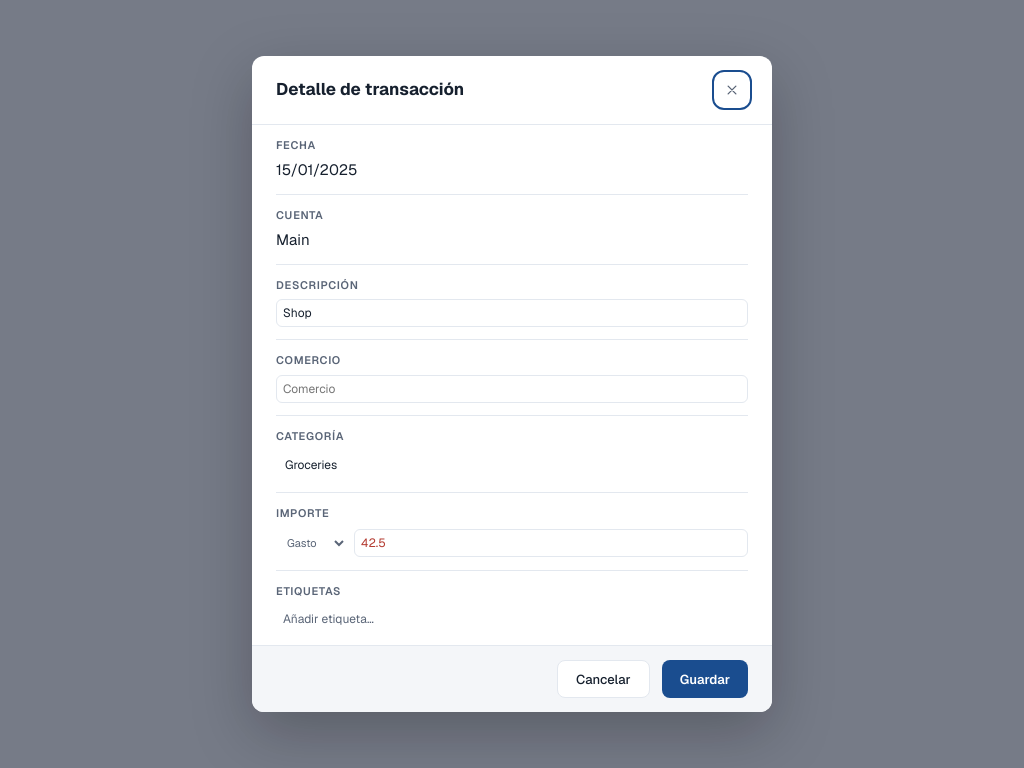
Test case: refuses malformed text
Step 1. Replace the text in the field labelled "Importe" with "12abc" → {"x": 551, "y": 543}, box [354,529,748,557]
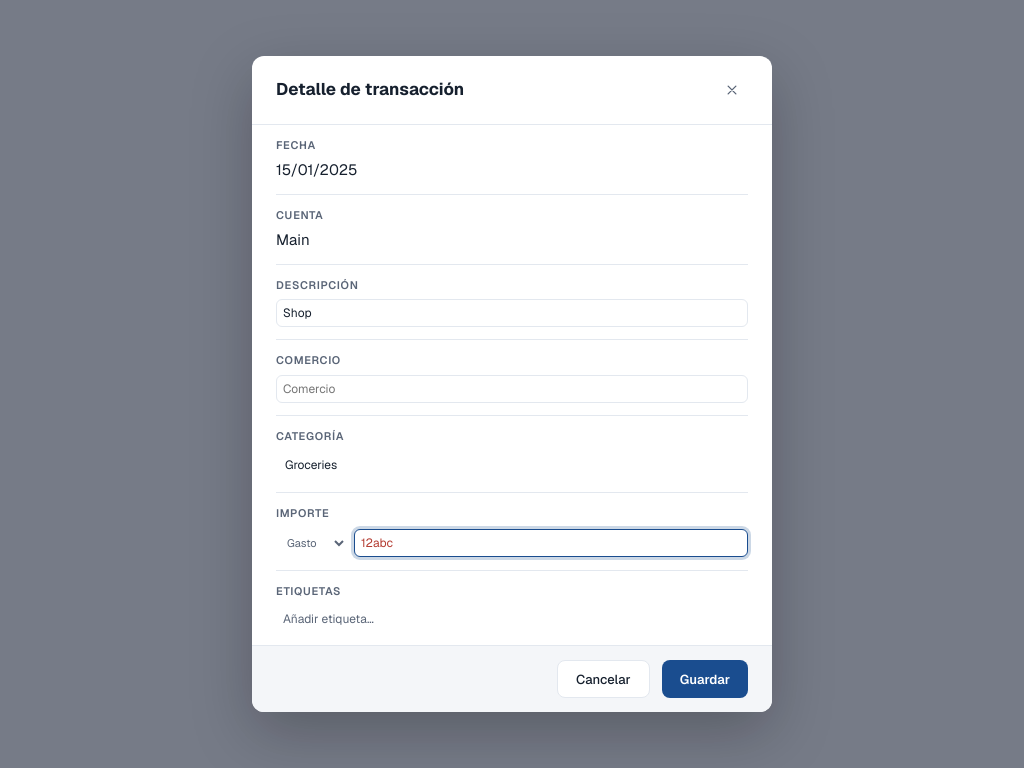
Step 2. Click the button "Guardar" → {"x": 705, "y": 679}, box [662,660,748,698]
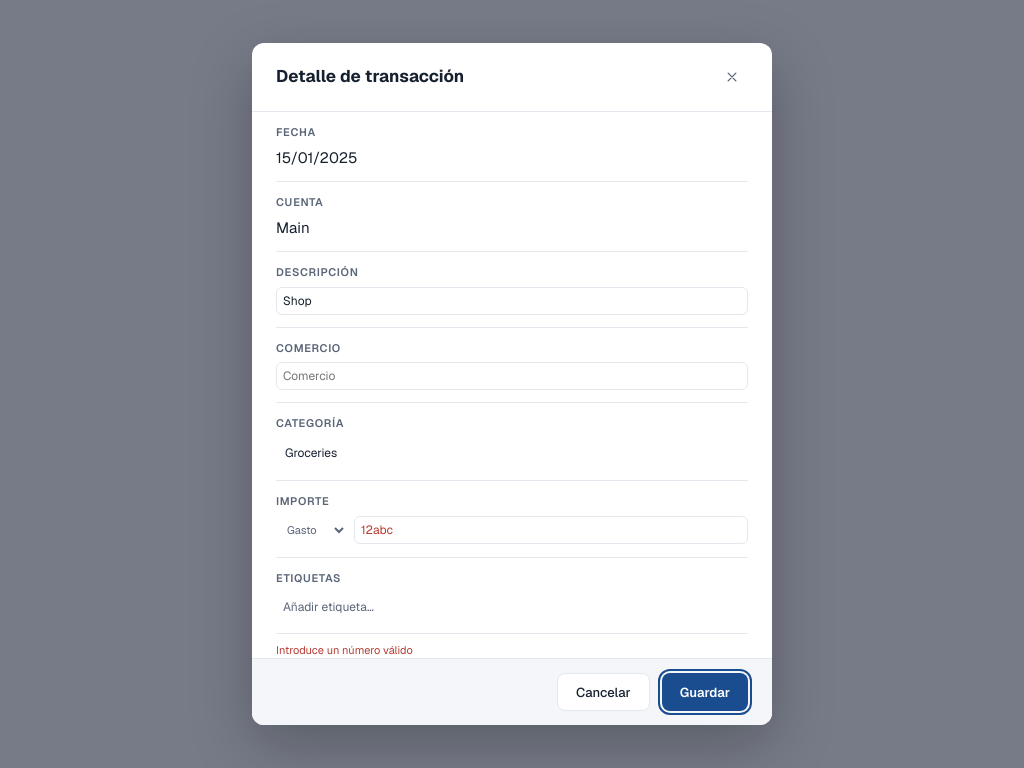
Expected: the text "Introduce un número válido" is shown, [276,642,413,656]
